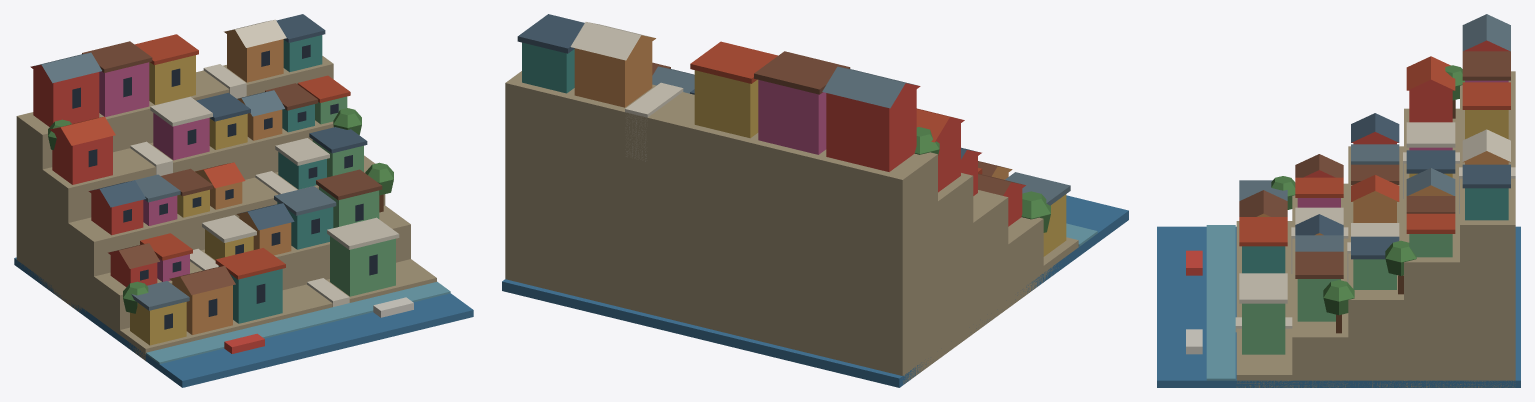
Rendered from gamcheon.glb.
3 views of the same model, side by side, from view 1: azimuth 30°, elevation 25°; view 2: azimuth 150°, elevation 25°; view 3: azimuth 270°, elevation 25° (orthographic). The views are drawn at different scales.
Parts seen in each view (by area): view 1: gamcheon; view 2: gamcheon; view 3: gamcheon.
Part boxes in pixels (left/top/right/bottom): gamcheon: left=14, top=14, right=473, bottom=387; gamcheon: left=502, top=14, right=1128, bottom=387; gamcheon: left=1157, top=14, right=1520, bottom=387.
Size of the model in its own units: 1.79 by 1.21 by 1.76.
